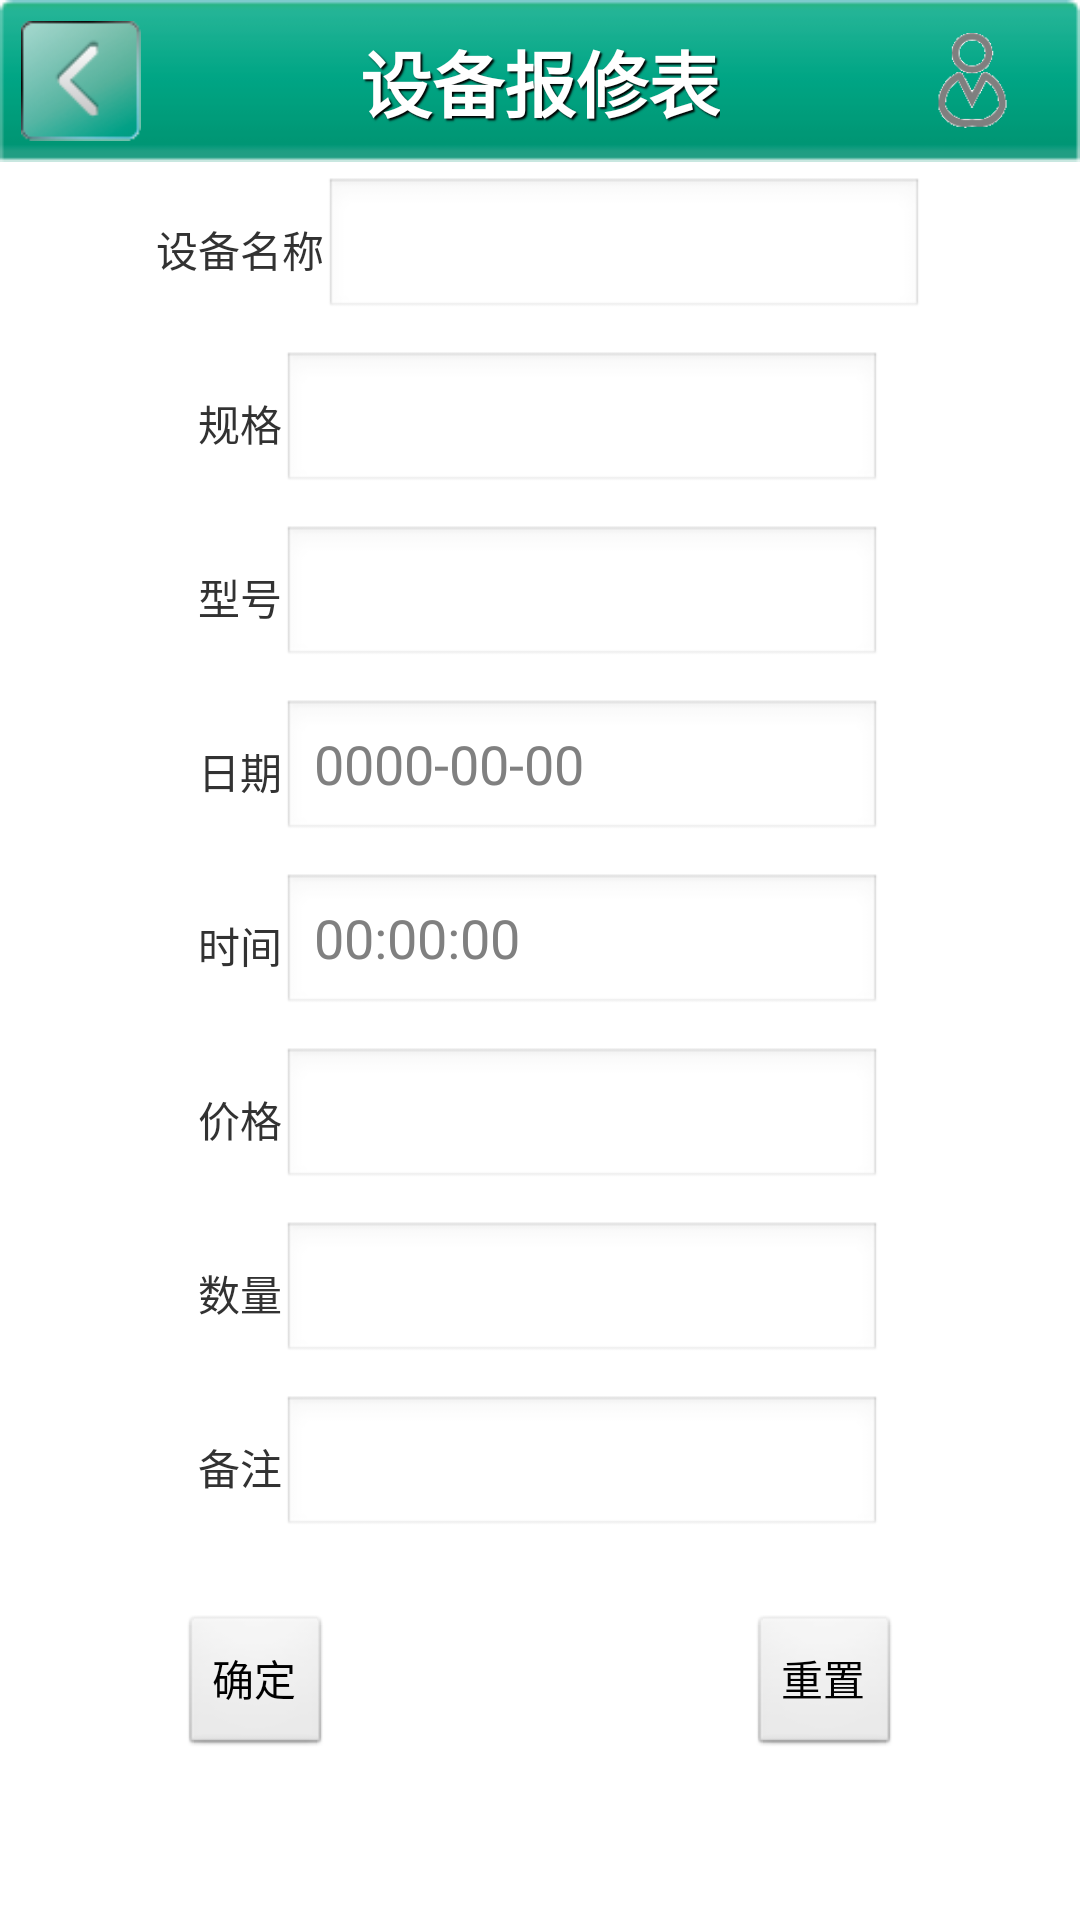

Screen size 1080 × 1920. Icon name, then its box in pixels as [x1, y1, x2, y2]:
back: [21, 21, 141, 141]
user: [924, 33, 1020, 128]
